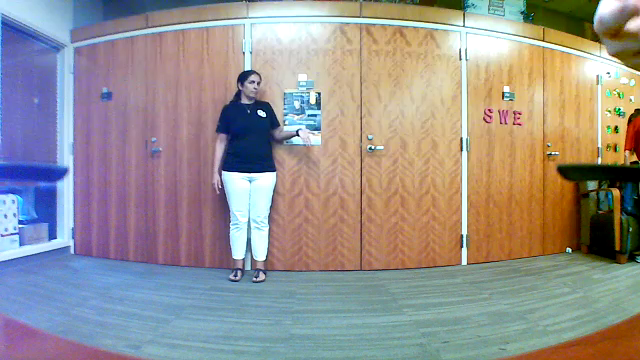land: (290, 126, 320, 152)
